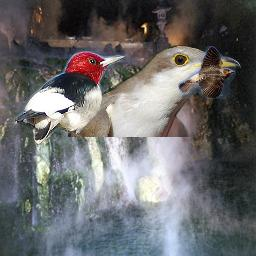Cuckoo: (68, 45, 241, 137)
Swallow: (178, 46, 236, 99)
Woodpecker: (14, 51, 128, 145)
